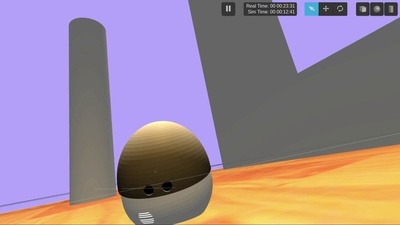mira_robot: (118, 120, 214, 225)
